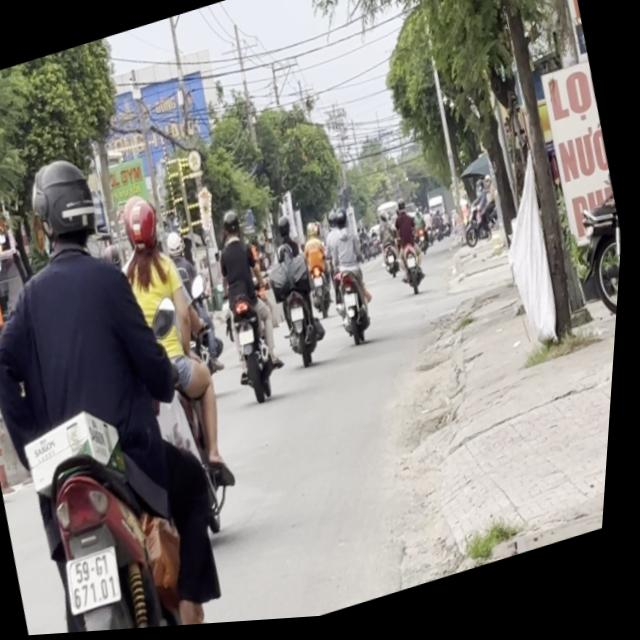helmet: (17, 146, 111, 267), (117, 191, 167, 258)
licenseplate: (0, 119, 283, 640), (87, 174, 275, 567)
nohelmet: (66, 546, 131, 615)
